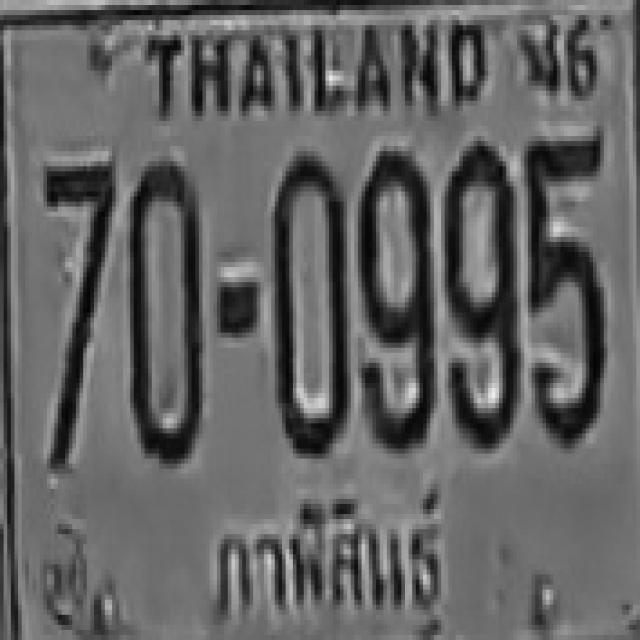0: (271, 151, 347, 454), (128, 159, 201, 461)
5: (524, 133, 600, 441)
7: (41, 161, 114, 459), (41, 161, 114, 403), (41, 161, 114, 343)
9: (441, 136, 517, 444), (358, 146, 430, 444)
Kalasin: (201, 478, 450, 632)
